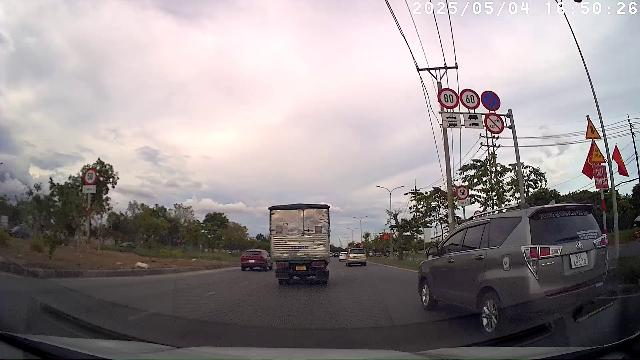127-toc-do-toi-da-50: (83, 168, 97, 184), (456, 185, 470, 199)
127-toc-do-toi-da-60: (460, 88, 480, 110)
127-toc-do-toi-da-80: (438, 87, 460, 109)
130-cam-dung-va-do-xe: (481, 90, 501, 110)
